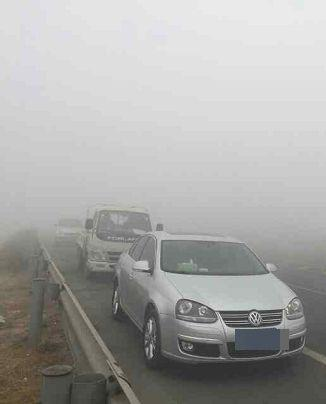bus: (73, 201, 156, 280)
car: (109, 229, 307, 371), (50, 216, 83, 244)
